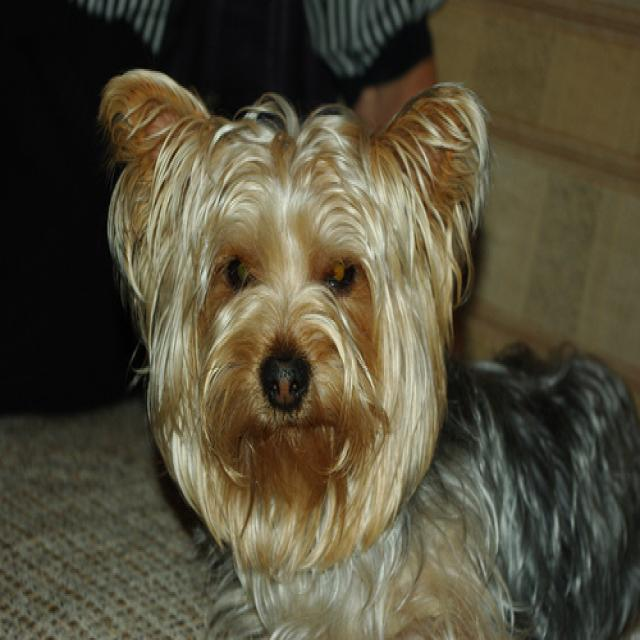dog: (119, 67, 483, 502)
